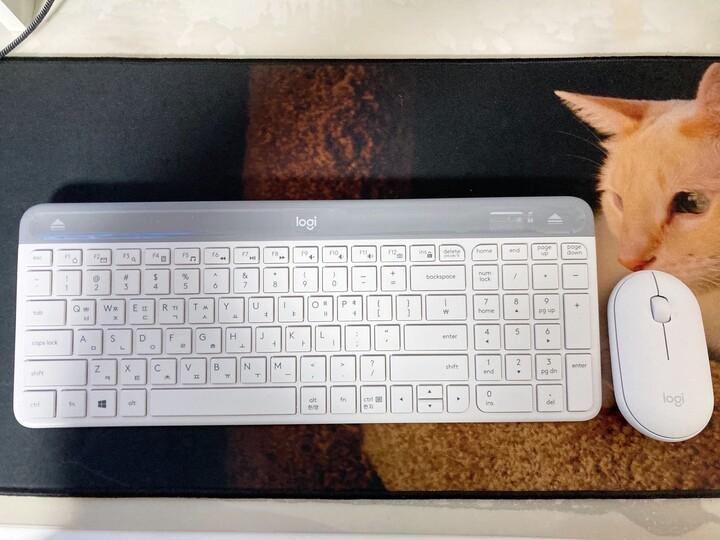keyboard: (12, 196, 602, 427)
mouse: (605, 268, 714, 443)
